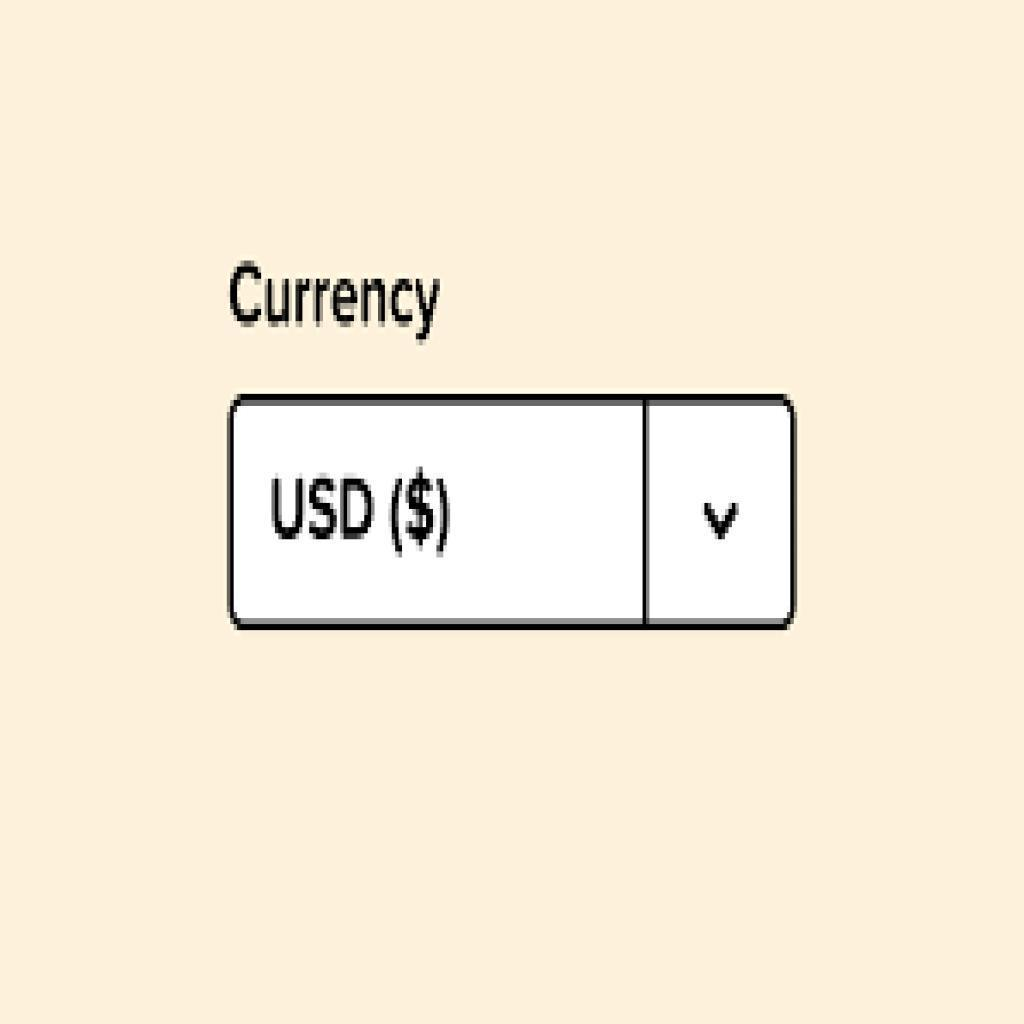dropdown: (234, 399, 795, 624)
